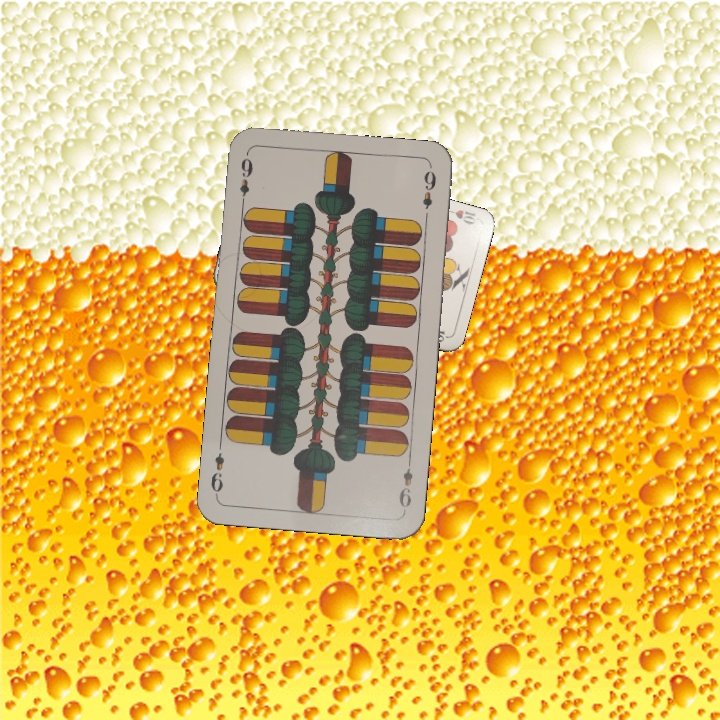E9: (395, 455, 416, 510), (235, 154, 256, 209)
H10: (441, 205, 478, 227)
